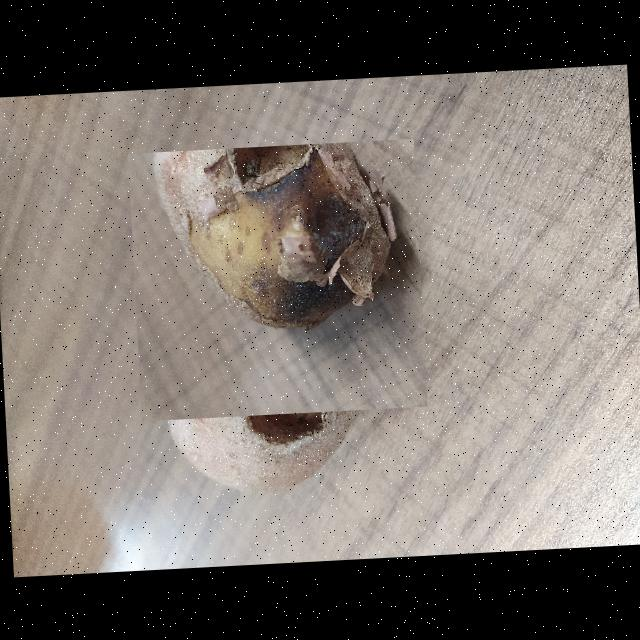Damaged potato: (127, 137, 427, 420)
